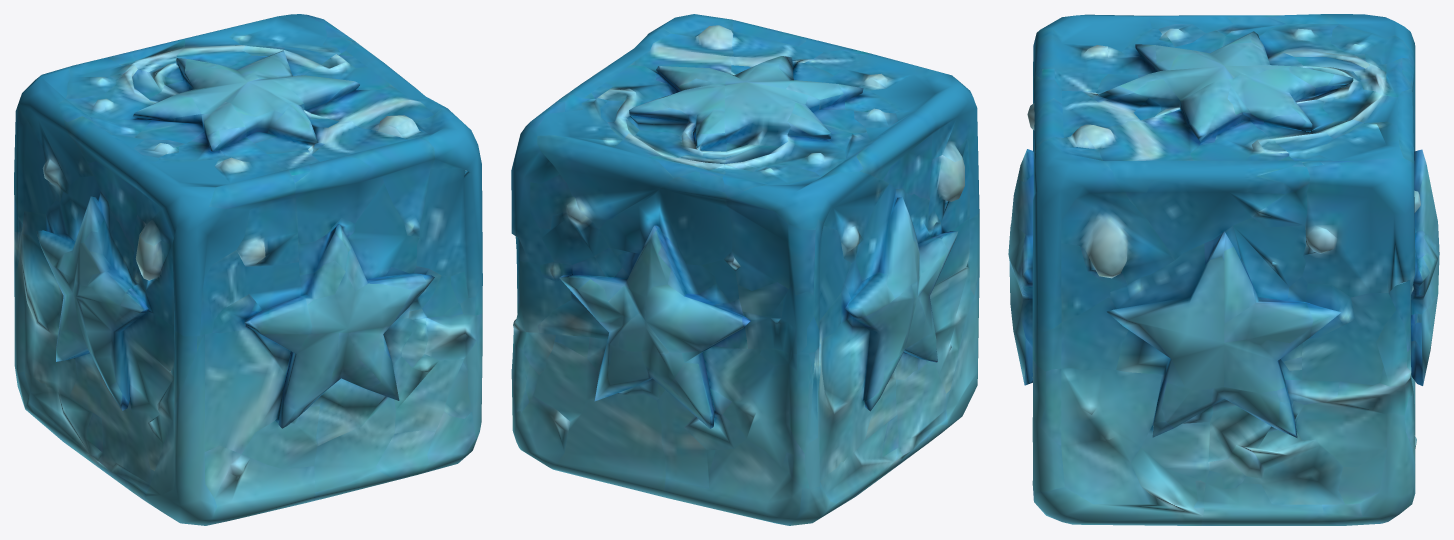
Rendered from water.glb.
3 renders of one model, left to right at view 1: azimuth 30°, elevation 25°; view 2: azimuth 150°, elevation 25°; view 3: azimuth 270°, elevation 25°, orthographic. The views are drawn at different scales.
Visible parts, largest first — view 1: tripo_node_b7393bfb-8c40-4404-979d-7a5f956d446a; view 2: tripo_node_b7393bfb-8c40-4404-979d-7a5f956d446a; view 3: tripo_node_b7393bfb-8c40-4404-979d-7a5f956d446a.
Part boxes in pixels (left/top/right/bottom): tripo_node_b7393bfb-8c40-4404-979d-7a5f956d446a: left=14, top=14, right=482, bottom=525; tripo_node_b7393bfb-8c40-4404-979d-7a5f956d446a: left=511, top=14, right=979, bottom=525; tripo_node_b7393bfb-8c40-4404-979d-7a5f956d446a: left=1008, top=14, right=1439, bottom=525.
Bounding box in the file's own units: 0.9583 × 0.9799 × 0.9573.
Materials: 1 (1 with a texture image).
